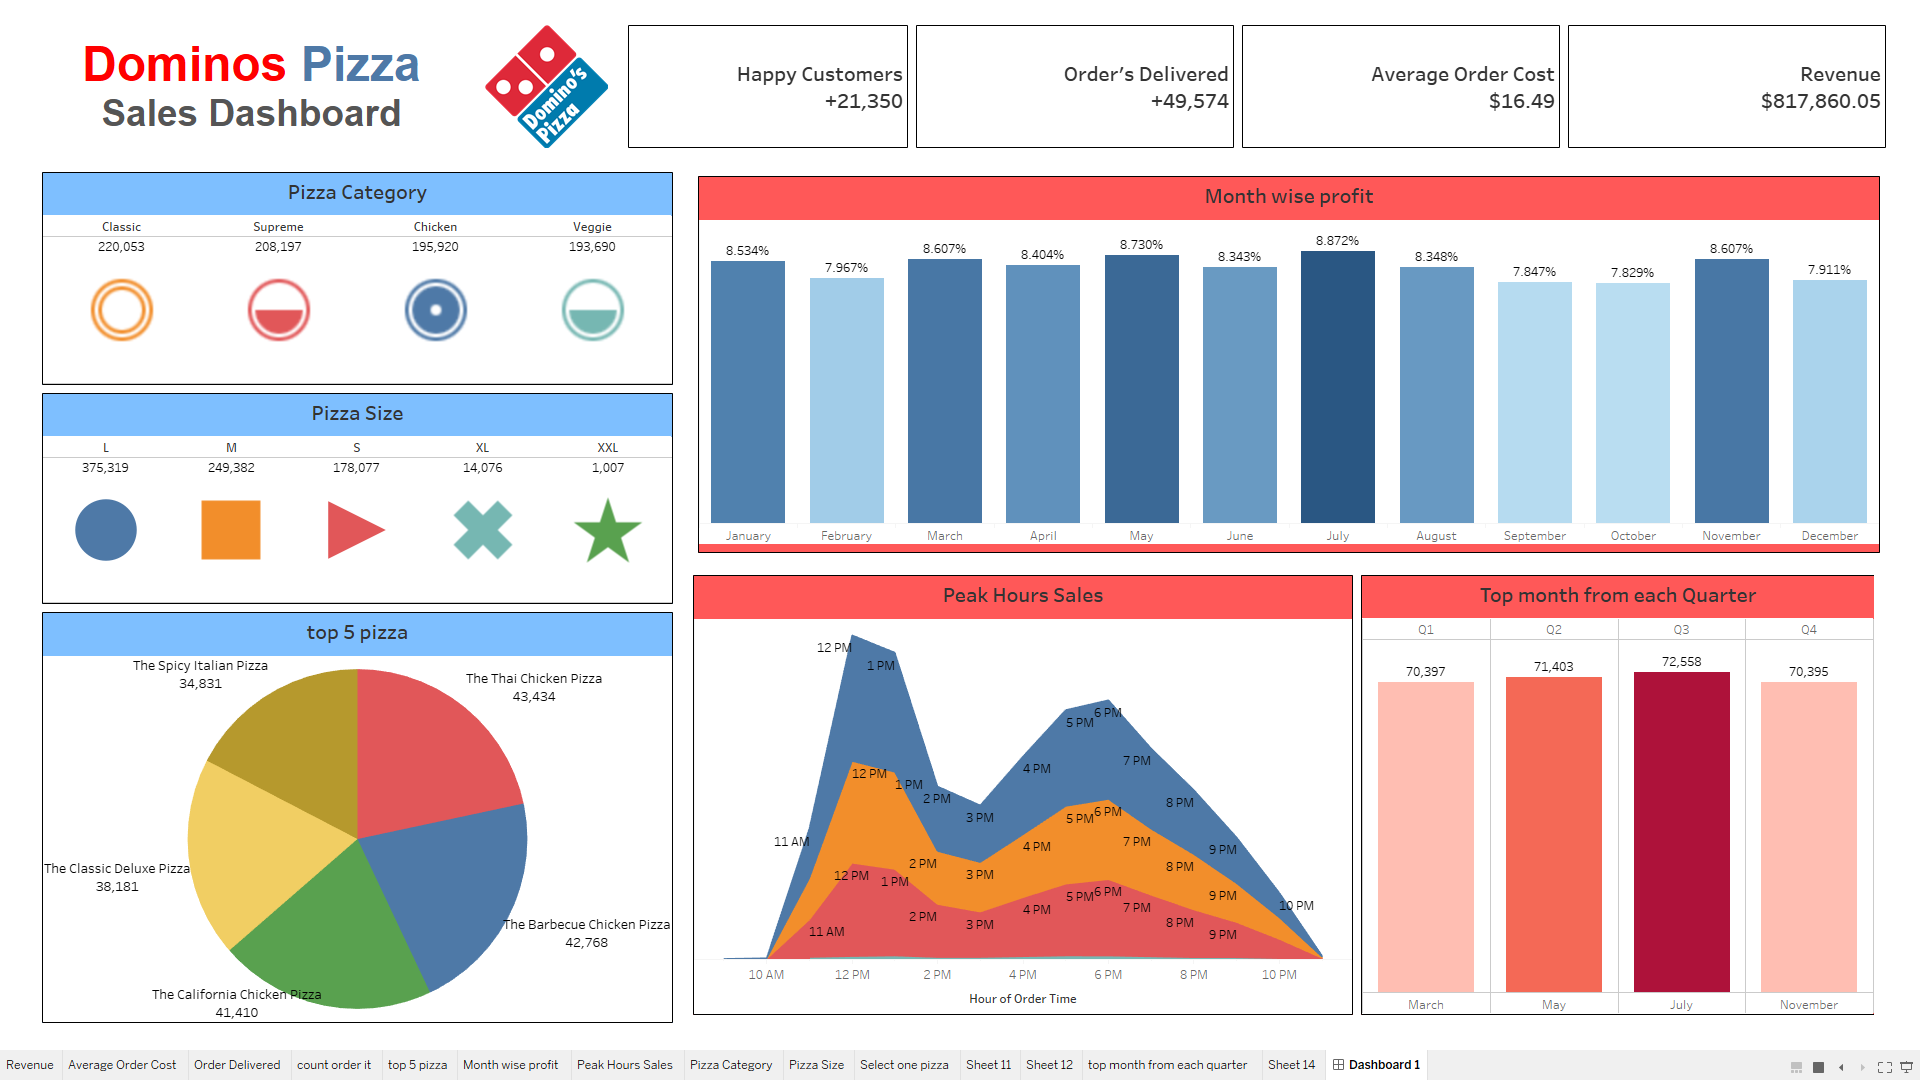

Layout of this report page (visuals, bound fields, positions):
{"tool":"tableau","page":{"name":"Dashboard 1","canvas":[1000,1000],"units":"permille","ordinal":0},"visuals":[{"type":"text","box":[19.9,20.1,386.2,125]},{"type":"worksheet","title":"count order it","mark":"Automatic","box":[406.1,20.1,168.5,125]},{"type":"worksheet","title":"Order Delivered","mark":"Automatic","box":[574.6,20.1,136.5,125]},{"type":"worksheet","title":"Average Order Cost","mark":"Automatic","box":[711.1,20.1,136.5,125]},{"type":"worksheet","title":"Revenue","mark":"Automatic","box":[847.7,20.1,136.5,125]},{"type":"image","param":"D:/Dominos_pizza_logo.svg.png","box":[259.2,29.7,83.1,101.7]},{"type":"worksheet","title":"Pizza Category","mark":"Shape","cols":["pizza_category"],"box":[19.9,160,332.9,234.1]},{"type":"worksheet","title":"Month wise profit","mark":"Bar","rows":["total_price"],"cols":["order_date"],"box":[361.6,164.2,619.7,366.5]},{"type":"worksheet","title":"Pizza Size","mark":"Shape","cols":["pizza_size"],"box":[19.9,394.1,332.9,232]},{"type":"worksheet","title":"Peak Hours Sales","mark":"Area","rows":["quantity"],"cols":["order_time"],"box":[358.7,543.4,390.9,426.9]},{"type":"worksheet","title":"top month from each quarter","mark":"Bar","rows":["total_price"],"cols":["order_date","order_date"],"box":[749.6,543.4,228.8,426.9]},{"type":"worksheet","title":"top 5 pizza","mark":"Pie","box":[19.9,626.1,332.9,351.7]}]}

Visuals, with their boxes on the dashboard's canvas, which has no fixed pixel size, in thousandths of its width and height (x1, y1, x2, y2). These are canvas units, not pixel positions in the 1920x1080 screenshot, which may show the page scaled, cropped or inside an application window:
text: (left=20, top=20, right=406, bottom=145)
"count order it" worksheet: (left=406, top=20, right=575, bottom=145)
"Order Delivered" worksheet: (left=575, top=20, right=711, bottom=145)
"Average Order Cost" worksheet: (left=711, top=20, right=848, bottom=145)
"Revenue" worksheet: (left=848, top=20, right=984, bottom=145)
image: (left=259, top=30, right=342, bottom=131)
"Pizza Category" worksheet (Shape marks): (left=20, top=160, right=353, bottom=394)
"Month wise profit" worksheet (Bar marks): (left=362, top=164, right=981, bottom=531)
"Pizza Size" worksheet (Shape marks): (left=20, top=394, right=353, bottom=626)
"Peak Hours Sales" worksheet (Area marks): (left=359, top=543, right=750, bottom=970)
"top month from each quarter" worksheet (Bar marks): (left=750, top=543, right=978, bottom=970)
"top 5 pizza" worksheet (Pie marks): (left=20, top=626, right=353, bottom=978)
